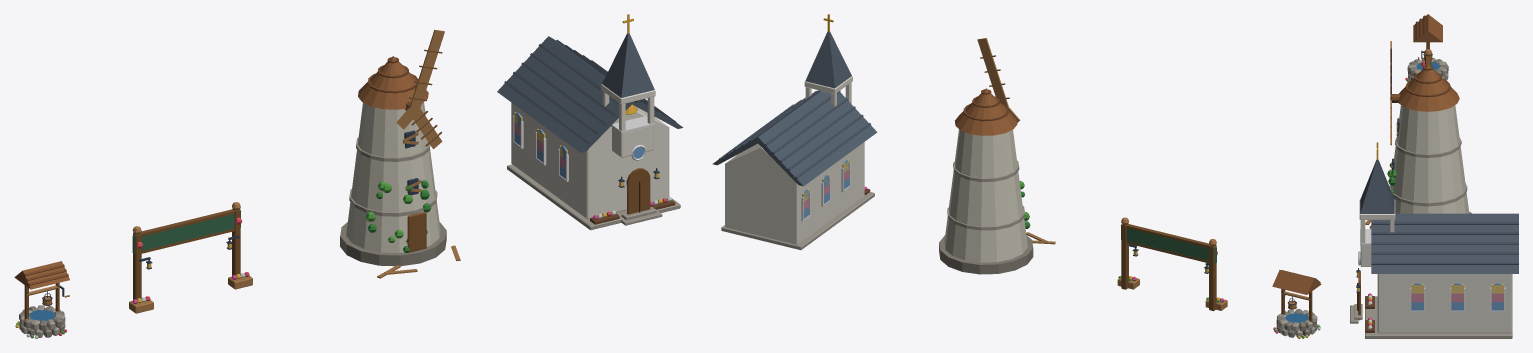
Rendered from farm-village.glb.
3 renders of one model, left to right at view 1: azimuth 30°, elevation 25°; view 2: azimuth 150°, elevation 25°; view 3: azimuth 270°, elevation 25°, orthographic. The views are drawn at different scales.
Parts seen in each view (by area): view 1: fm_chapel_mesh, fm_windmill_mesh, fm_gate_mesh, fm_well_mesh; view 2: fm_chapel_mesh, fm_windmill_mesh, fm_gate_mesh, fm_well_mesh; view 3: fm_chapel_mesh, fm_windmill_mesh, fm_well_mesh.
Part boxes in pixels (<box>): fm_chapel_mesh: <box>497,14,683,230</box>; fm_windmill_mesh: <box>340,29,460,278</box>; fm_gate_mesh: <box>129,202,252,313</box>; fm_well_mesh: <box>14,261,69,338</box>; fm_chapel_mesh: <box>712,14,877,250</box>; fm_windmill_mesh: <box>939,38,1055,274</box>; fm_gate_mesh: <box>1117,217,1227,311</box>; fm_well_mesh: <box>1272,270,1321,338</box>; fm_chapel_mesh: <box>1350,142,1518,338</box>; fm_windmill_mesh: <box>1365,41,1471,224</box>; fm_well_mesh: <box>1405,14,1448,81</box>.
Bounding box in the file's own units: 30.51 × 10.37 × 8.
